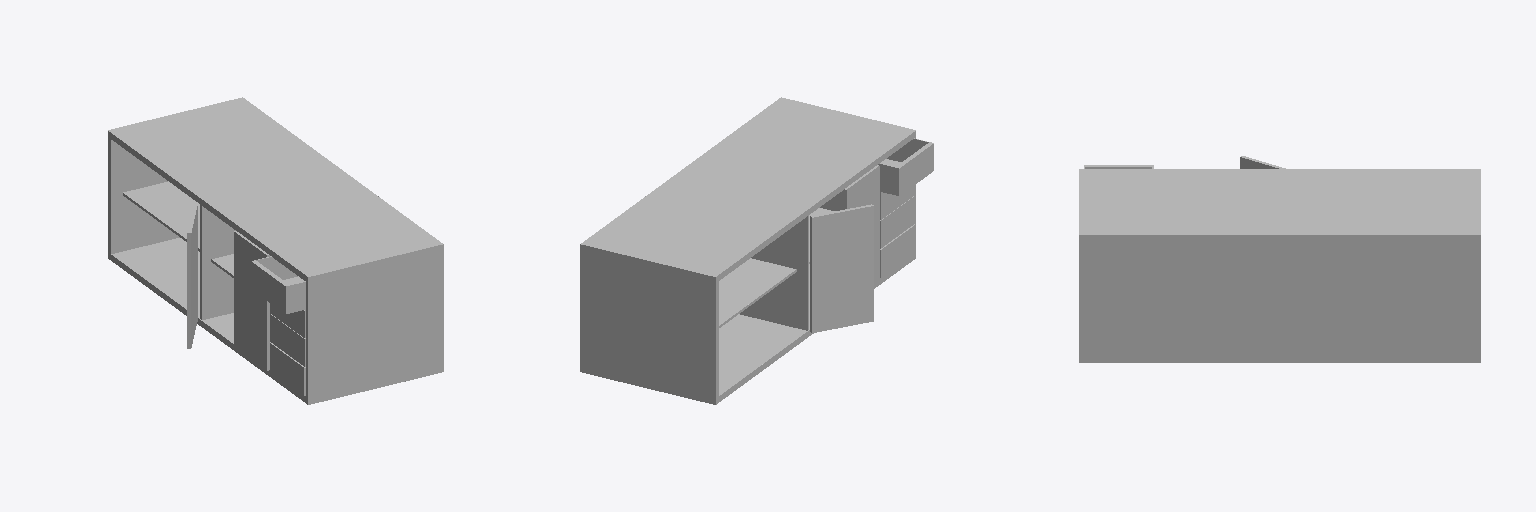
Rendered from cupboard 1.obj.
3 views of the same model, side by side, from view 1: azimuth 30°, elevation 25°; view 2: azimuth 150°, elevation 25°; view 3: azimuth 270°, elevation 25° (orthographic).
Bounding box in the file's own units: 56.92 × 39.87 × 113.